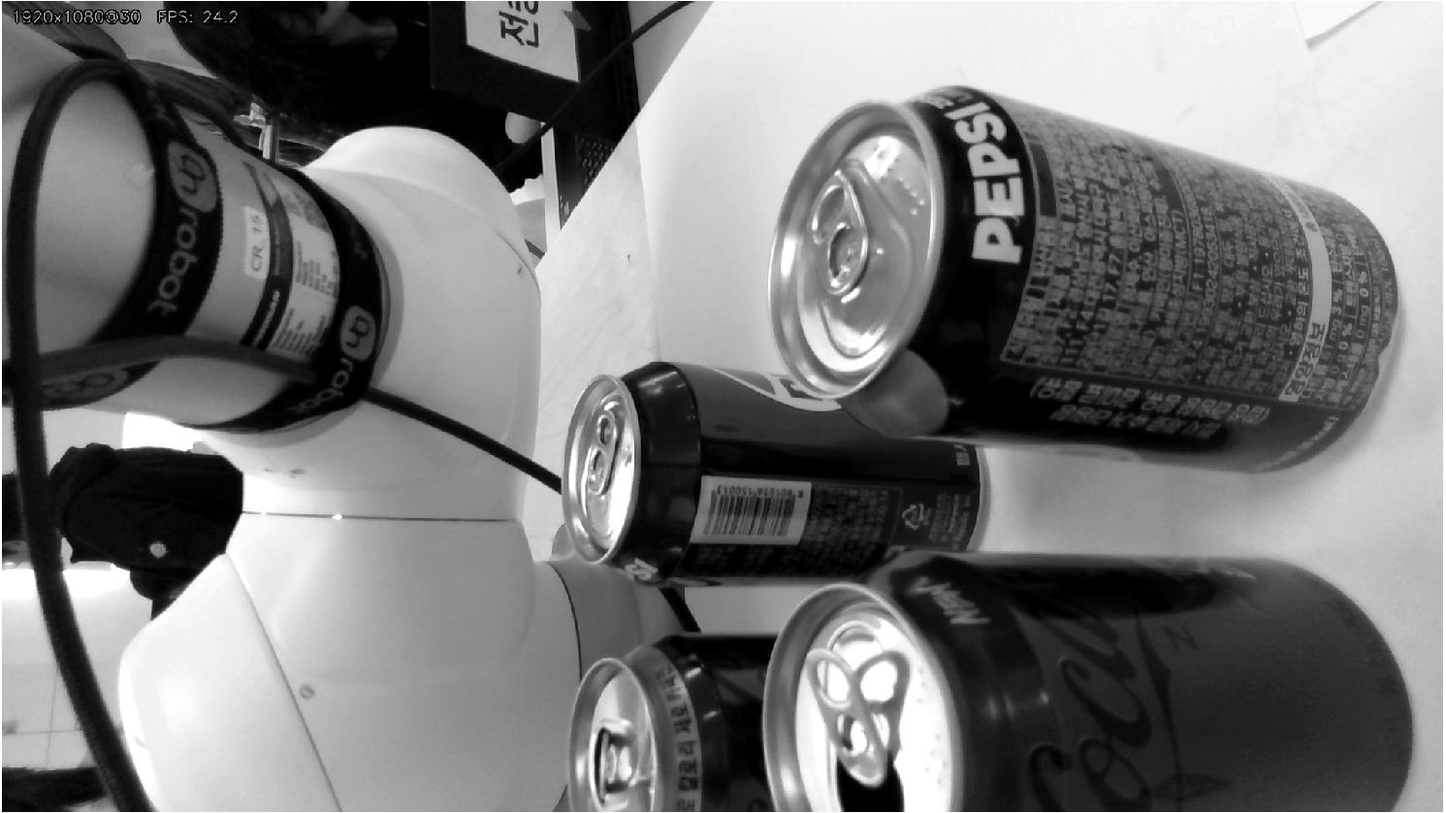can_coke_decaf: (567, 635, 775, 812)
can_coke_zero: (763, 554, 1411, 812)
can_pepsi: (564, 362, 982, 586)
can_pepsi_zero: (770, 87, 1398, 470)
